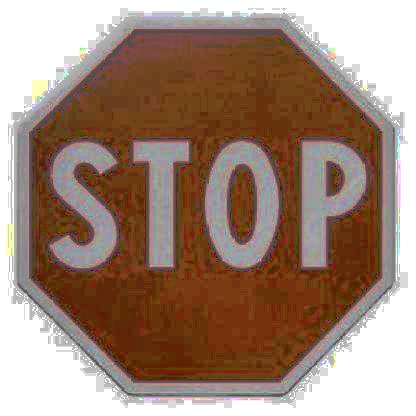Stop Sign: (13, 19, 394, 396)
